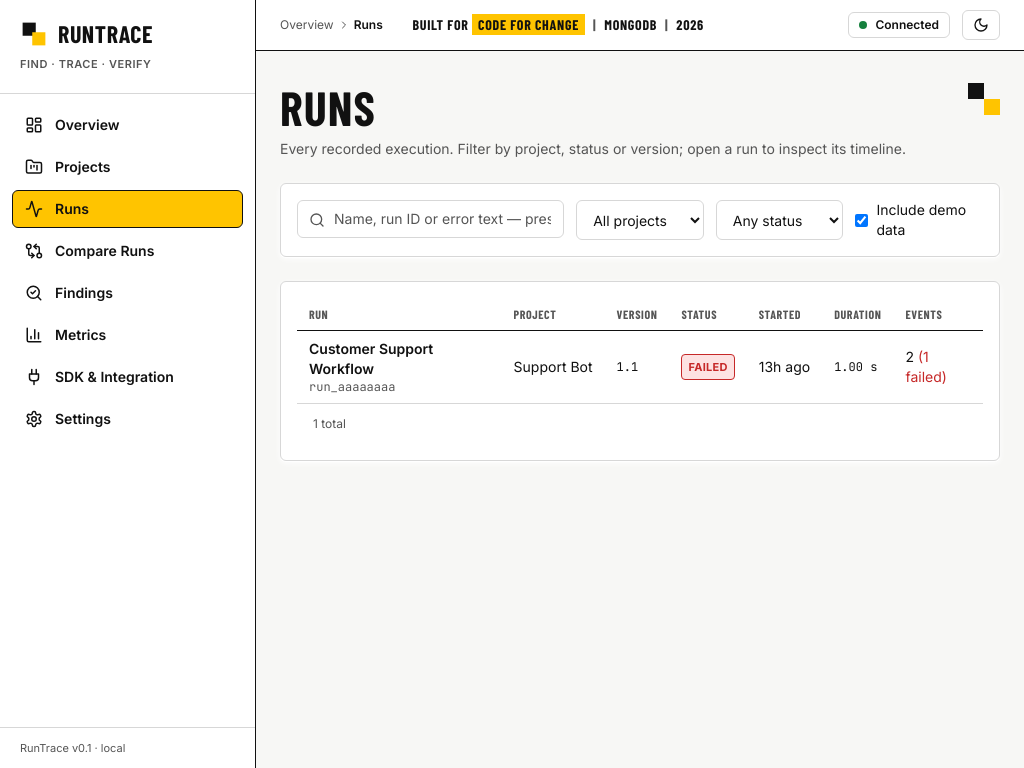
Scenario: runs › lists runs and shows a run timeline with the recorded error
The width and height of the screenshot is (1024, 768).
Click the link "Customer Support Workflow": (371, 348) x1=309 y1=340 x2=433 y2=377
(page scrolled)
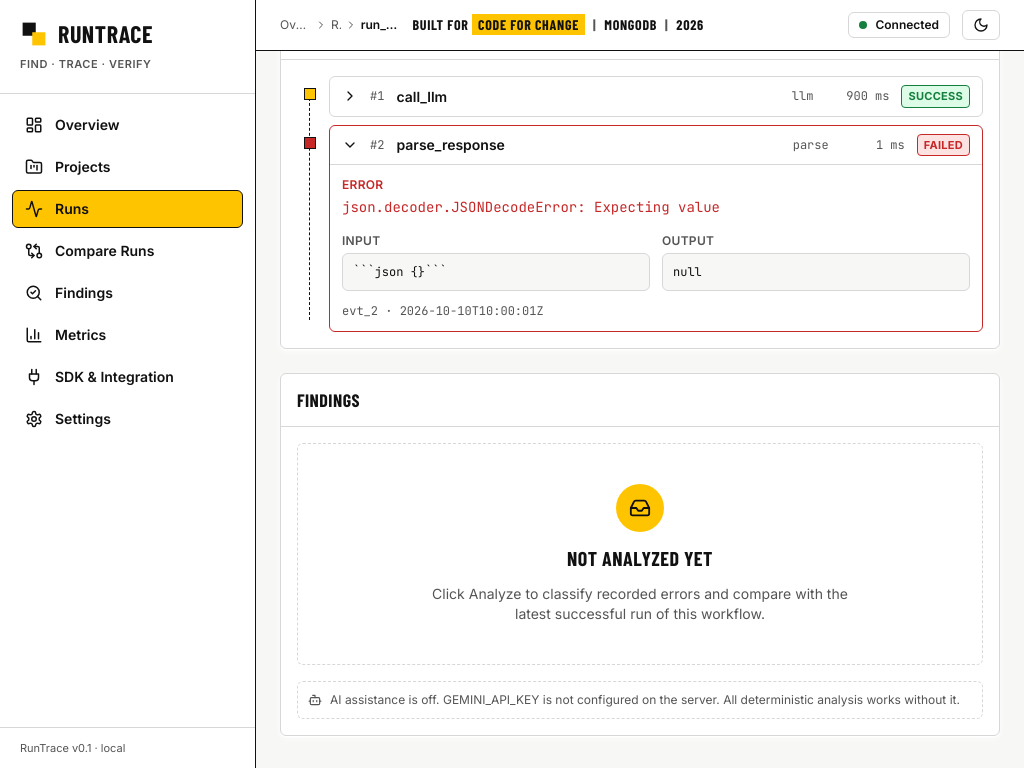
Check: the text "call_llm" is shown, box x1=396 y1=88 x2=447 y2=105
Check: the text "json.decoder.JSONDecodeError: Expecting value" is shown, box x1=342 y1=198 x2=720 y2=216
Check: the heading "Not analyzed yet" is shown, box x1=567 y1=544 x2=713 y2=572
